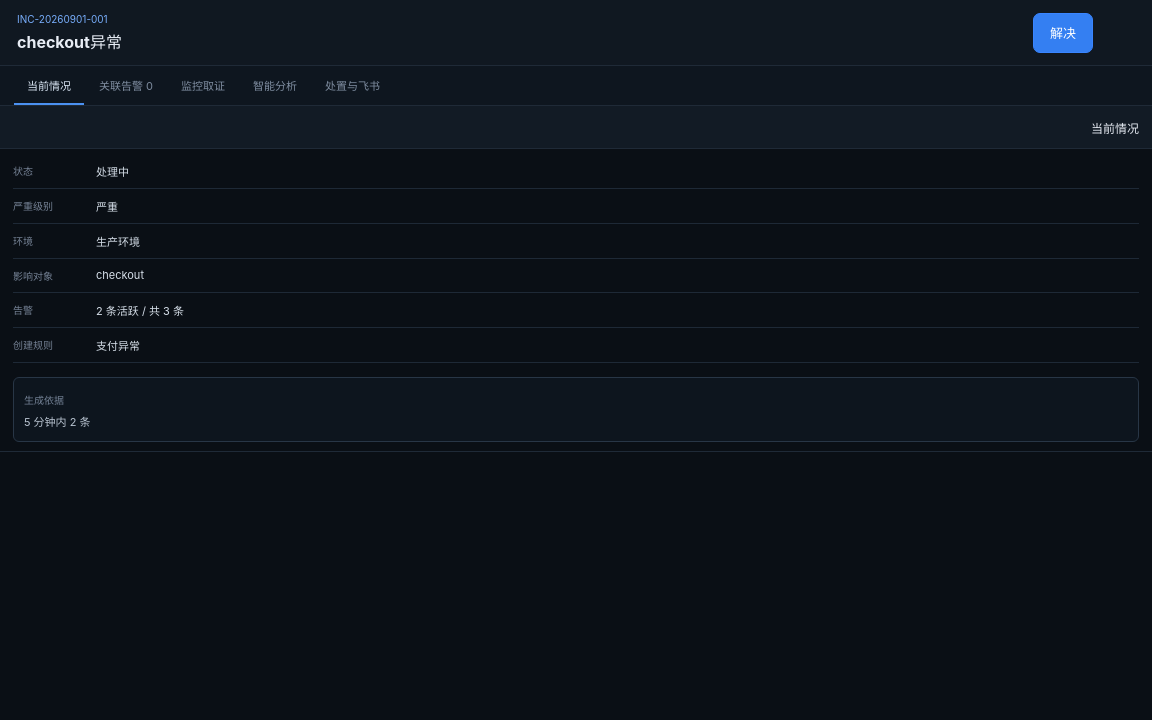
Scenario: 解决成功后自动关闭解决表单
This screenshot has width=1152, height=720.
Step 1. Click the button with test id "open-resolve" → (1063, 32), box [1033,12,1093,52]
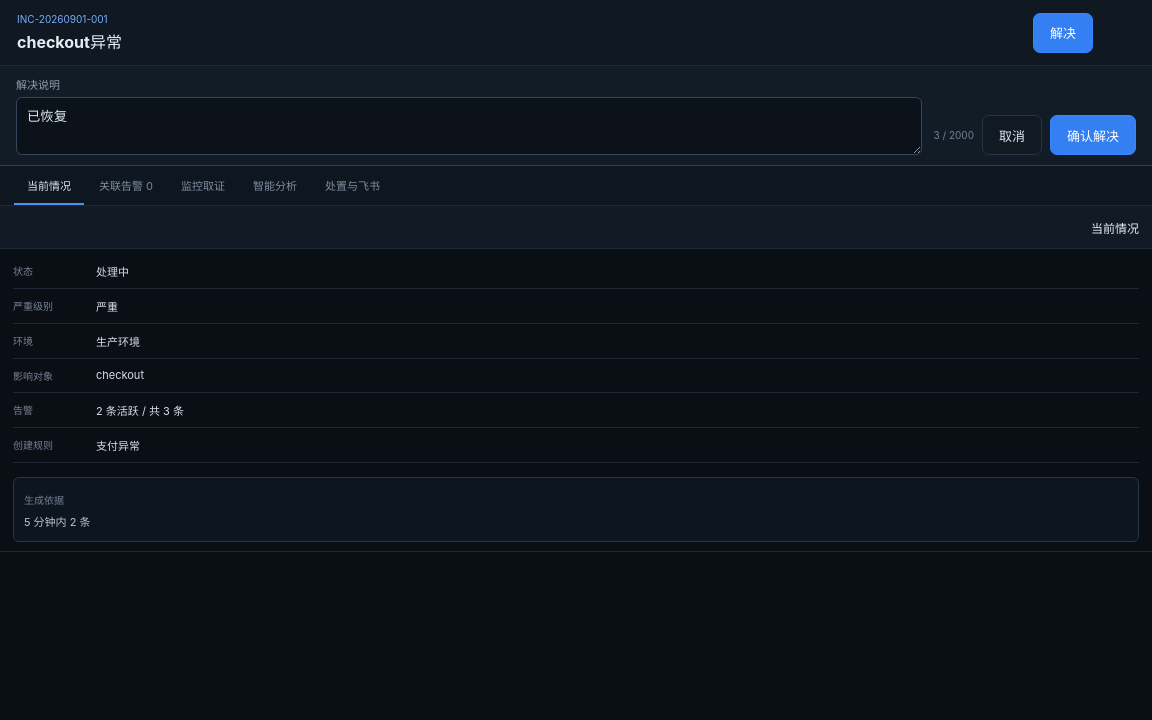
Expected: the text box with test id "resolution-summary" is shown, [16,97,922,155]
